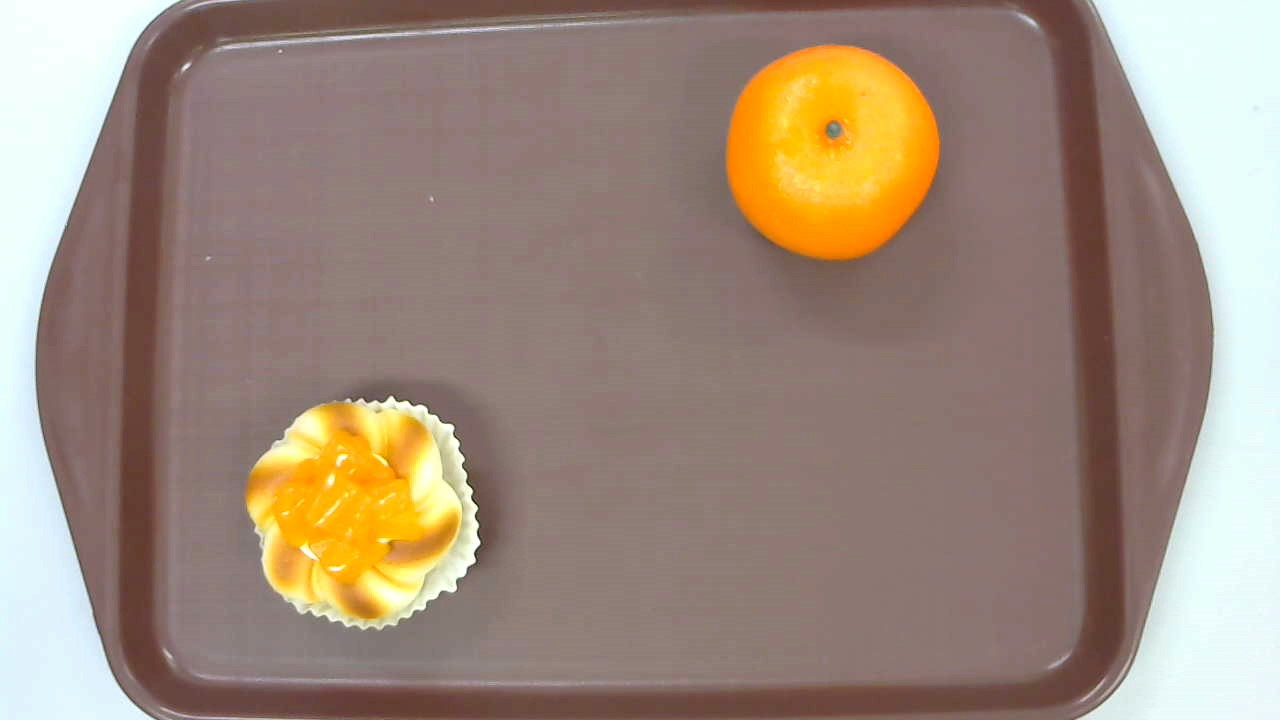mango tart: (244, 394, 483, 631)
orange: (726, 43, 940, 261)
